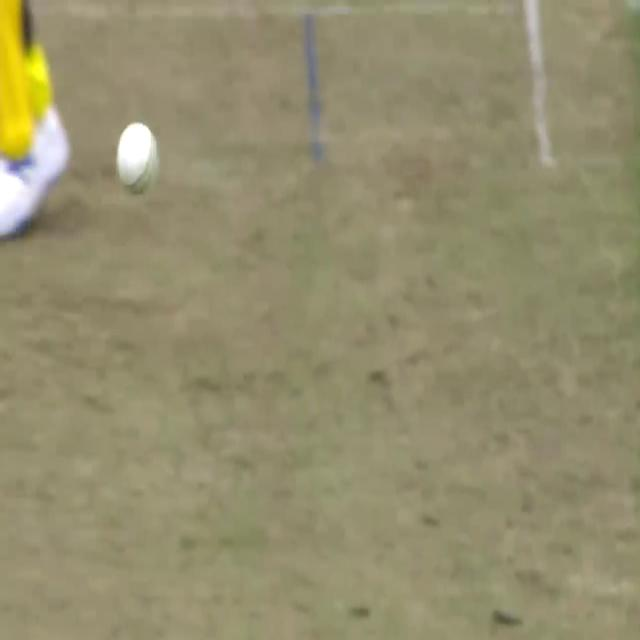ball: (110, 116, 164, 196)
